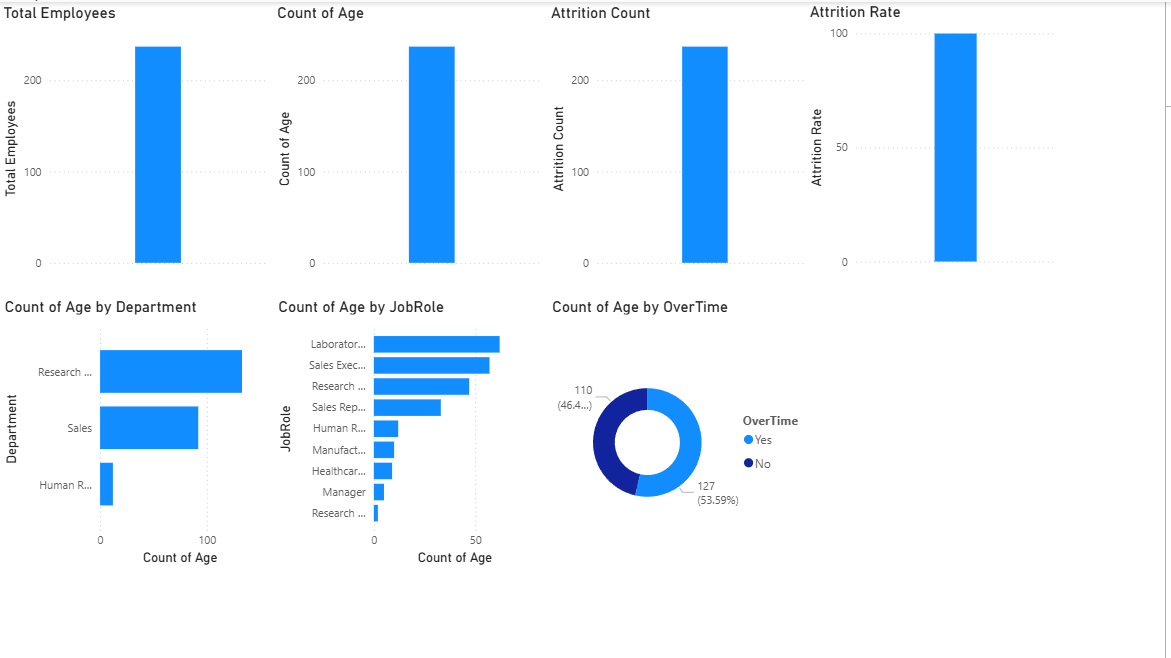

The page's visual inventory and layout, read from the dashboard file:
{"tool":"powerbi","page":{"name":"Page 1","canvas":[1280,720],"ordinal":0},"visuals":[{"type":"clusteredColumnChart","fields":{"Y":["hr_attrition_cleaned.Total Employees"]},"box":[0,1.4,300.5,299.1],"z":0},{"type":"clusteredColumnChart","fields":{"Y":["CountNonNull(hr_attrition_cleaned.Age)"]},"box":[300.5,1.4,300.5,299.1],"z":1000},{"type":"clusteredColumnChart","fields":{"Y":["hr_attrition_cleaned.Attrition Count"]},"box":[601,1.4,299.1,299.1],"z":2000},{"type":"clusteredColumnChart","fields":{"Y":["hr_attrition_cleaned.Attrition Rate"]},"box":[885.1,0,281.3,299.1],"z":3000},{"type":"clusteredBarChart","fields":{"Category":["hr_attrition_cleaned.Department"],"Y":["CountNonNull(hr_attrition_cleaned.Age)"]},"box":[1.4,323.8,300.5,299.1],"z":4000},{"type":"clusteredBarChart","fields":{"Y":["CountNonNull(hr_attrition_cleaned.Age)"],"Category":["hr_attrition_cleaned.JobRole"]},"box":[302,324,300,299],"z":5000},{"type":"donutChart","fields":{"Category":["hr_attrition_cleaned.OverTime"],"Y":["CountNonNull(hr_attrition_cleaned.Age)"]},"box":[602,324,298,299],"z":5001}]}

Visuals, with their boxes in screenshot pixels (x1, y1, x2, y2), scaled from the page's 1280x720 canvas onto the 1171x658 screenshot:
clusteredColumnChart - hr_attrition_cleaned.Total Employees: pyautogui.locateOnScreen(0, 1, 275, 275)
clusteredColumnChart - CountNonNull(hr_attrition_cleaned.Age): pyautogui.locateOnScreen(275, 1, 550, 275)
clusteredColumnChart - hr_attrition_cleaned.Attrition Count: pyautogui.locateOnScreen(550, 1, 823, 275)
clusteredColumnChart - hr_attrition_cleaned.Attrition Rate: pyautogui.locateOnScreen(810, 0, 1067, 273)
clusteredBarChart - hr_attrition_cleaned.Department x CountNonNull(hr_attrition_cleaned.Age): pyautogui.locateOnScreen(1, 296, 276, 569)
clusteredBarChart - CountNonNull(hr_attrition_cleaned.Age) x hr_attrition_cleaned.JobRole: pyautogui.locateOnScreen(276, 296, 551, 569)
donutChart - hr_attrition_cleaned.OverTime x CountNonNull(hr_attrition_cleaned.Age): pyautogui.locateOnScreen(551, 296, 823, 569)
